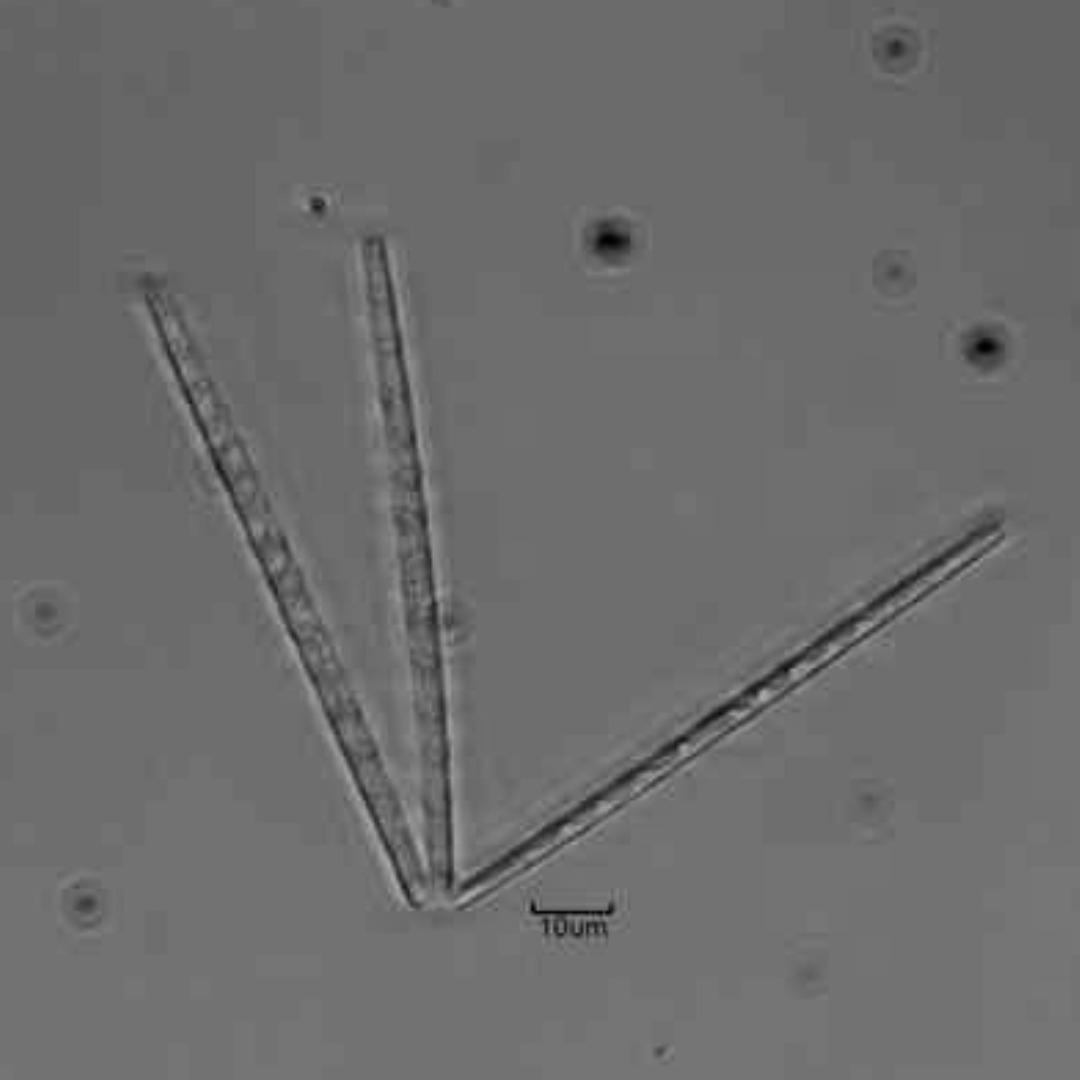thalassionema_nitzschioides: (139, 235, 1008, 915)
